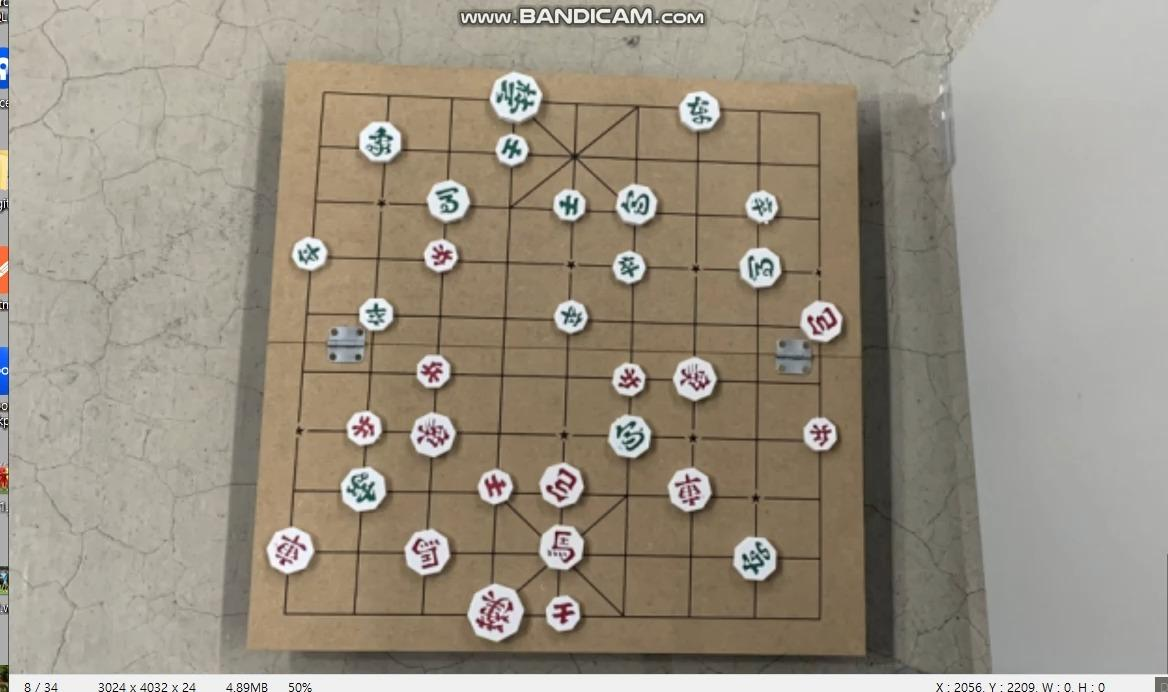cha_green: (732, 536, 779, 582), (677, 93, 720, 132)
cha_red: (265, 530, 315, 573), (666, 468, 712, 510)
jol_green: (554, 299, 589, 336), (289, 238, 328, 270), (358, 299, 395, 331), (611, 253, 648, 284), (746, 191, 782, 222)
jol_red: (345, 411, 384, 445), (611, 363, 648, 396), (801, 419, 839, 451), (422, 241, 459, 272), (416, 357, 453, 388)
ma_green: (426, 182, 472, 222), (740, 250, 784, 289)
ma_red: (404, 532, 452, 574), (538, 528, 585, 570)
po_green: (606, 415, 653, 457), (615, 186, 658, 225)
po_red: (540, 465, 586, 507), (800, 302, 845, 341)
sa_green: (553, 190, 588, 222), (496, 136, 531, 167)
sa_red: (476, 470, 515, 504), (544, 598, 583, 631)
sang_green: (338, 467, 388, 510), (359, 124, 402, 163)
sang_red: (409, 414, 457, 456), (672, 361, 717, 402)
wang_green: (491, 76, 543, 124)
wang_red: (467, 590, 525, 638)
